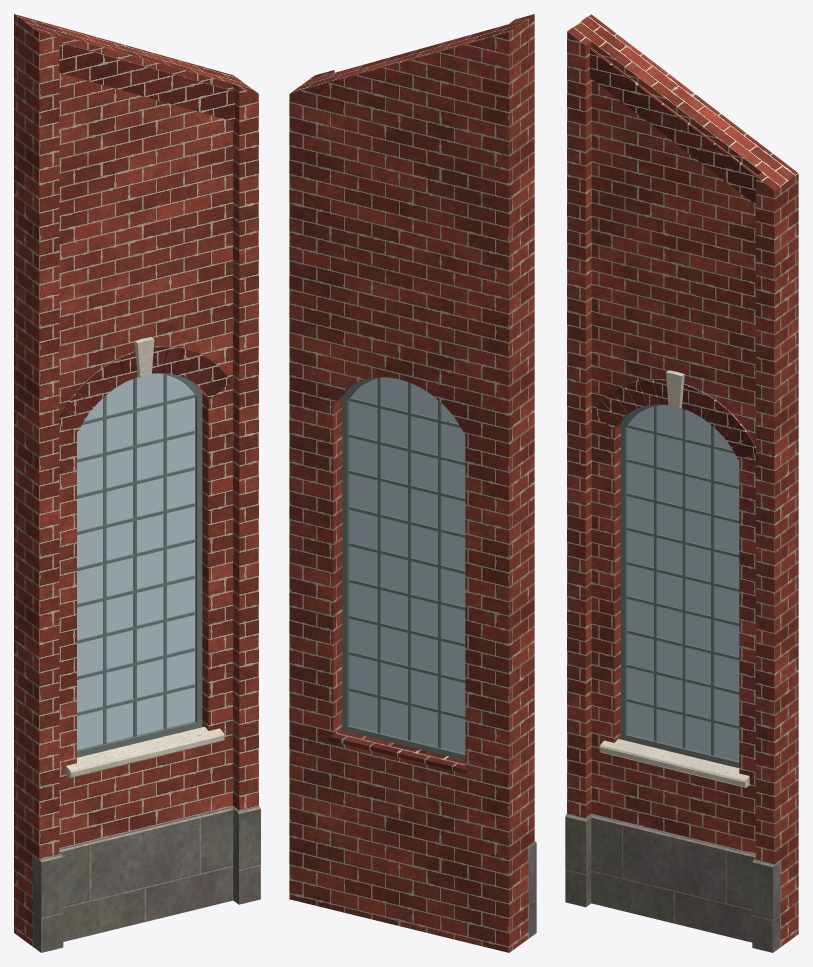
Rendered from h_side_window_r1.glb.
The picture shows the model from 3 angles, left to right: view 1: azimuth 30°, elevation 25°; view 2: azimuth 150°, elevation 25°; view 3: azimuth 330°, elevation 25°; orthographic projection. The views are drawn at different scales.
Visible parts, largest first — view 1: h_side_window_r1_brick, h_side_window_r1_glass, h_side_window_r1_plinth, h_side_window_r1_wframe, h_side_window_r1_brick2, h_side_window_r1_trim; view 2: h_side_window_r1_brick, h_side_window_r1_glass, h_side_window_r1_wframe, h_side_window_r1_brick2, h_side_window_r1_plinth; view 3: h_side_window_r1_brick, h_side_window_r1_glass, h_side_window_r1_plinth, h_side_window_r1_wframe, h_side_window_r1_brick2, h_side_window_r1_trim.
Part boxes in pixels (x1,y1,x2,y2): h_side_window_r1_brick: [14, 14, 258, 946]; h_side_window_r1_glass: [77, 373, 195, 749]; h_side_window_r1_plinth: [33, 806, 260, 952]; h_side_window_r1_wframe: [77, 373, 202, 757]; h_side_window_r1_brick2: [59, 42, 234, 431]; h_side_window_r1_trim: [66, 337, 224, 778]; h_side_window_r1_brick: [289, 14, 534, 952]; h_side_window_r1_glass: [349, 377, 465, 753]; h_side_window_r1_wframe: [342, 377, 465, 760]; h_side_window_r1_brick2: [329, 730, 467, 773]; h_side_window_r1_plinth: [528, 841, 536, 938]; h_side_window_r1_brick: [567, 14, 798, 946]; h_side_window_r1_glass: [627, 404, 739, 760]; h_side_window_r1_plinth: [565, 814, 780, 952]; h_side_window_r1_wframe: [620, 404, 739, 767]; h_side_window_r1_brick2: [590, 48, 757, 459]; h_side_window_r1_trim: [599, 370, 749, 787].
Bounding box in the file's own units: 2 × 8 × 0.46.
6 materials, 4 textured.
